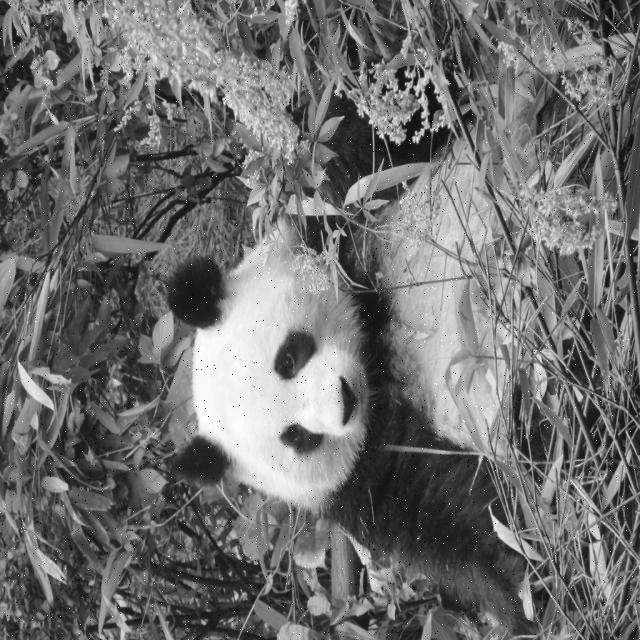panda: (168, 0, 612, 639)
